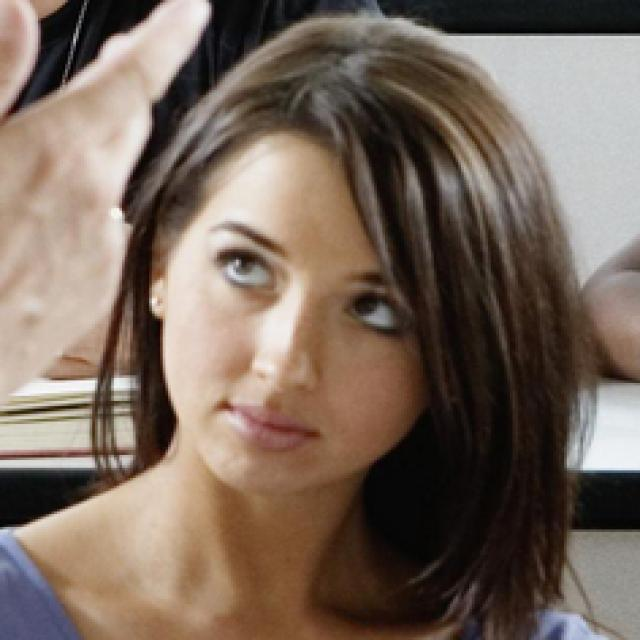Attentive: (158, 137, 420, 494)
